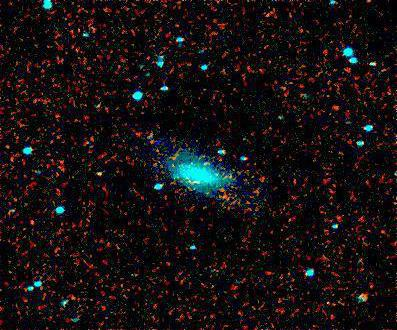star: (321, 93, 351, 123)
